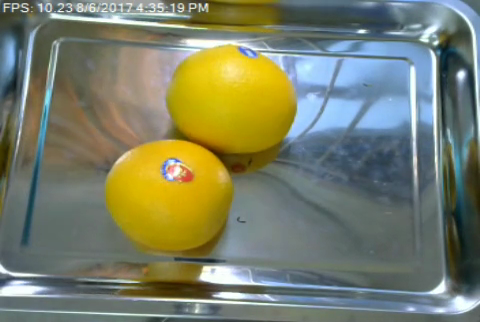Orange: (102, 137, 232, 250), (168, 45, 298, 152)
